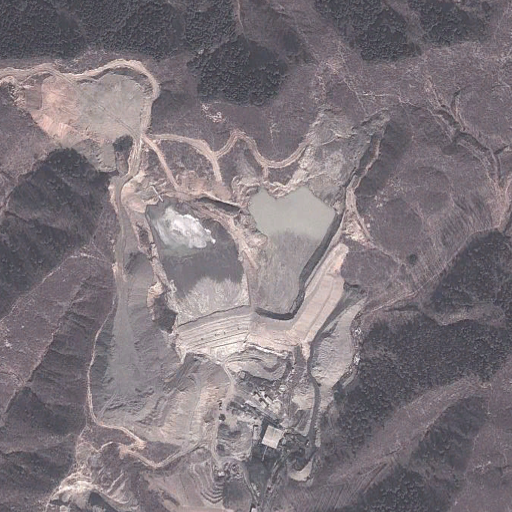tp: (143, 185, 350, 353)
